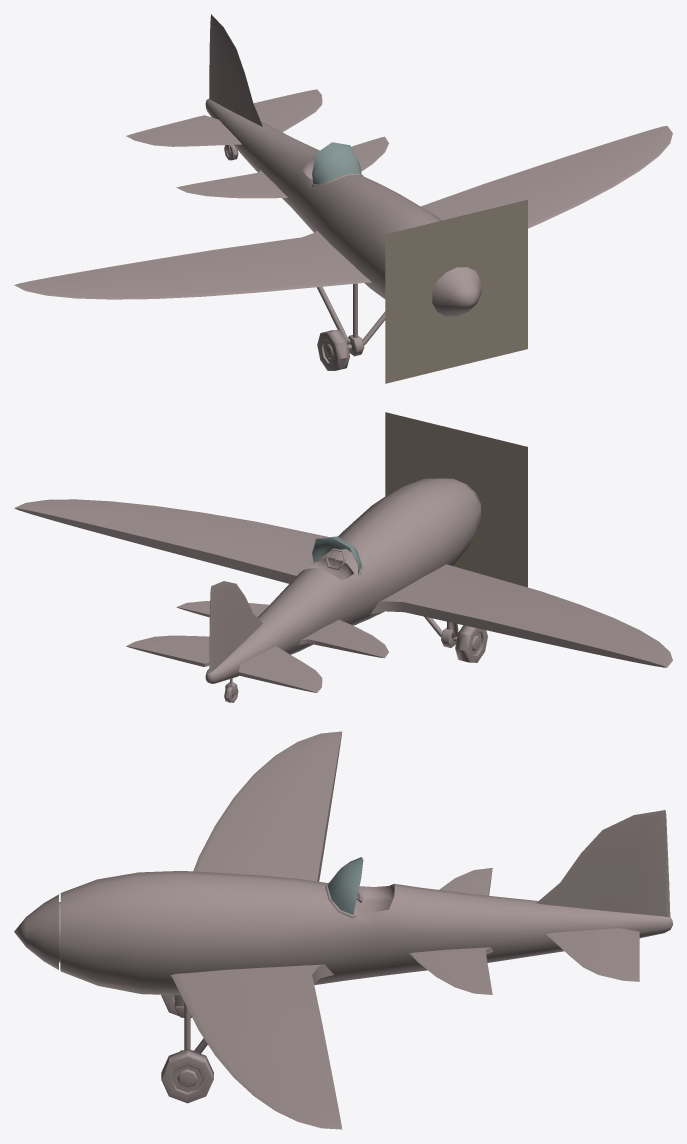
The model's file is a3d_plane_alpha-propeller_01.fbx.
3 renders of one model, top to bottom at view 1: azimuth 30°, elevation 25°; view 2: azimuth 150°, elevation 25°; view 3: azimuth 270°, elevation 25°, orthographic. The views are drawn at different scales.
Parts seen in each view (by area): view 1: Wing_Big, Propeller_Alpha, Body, Tail_Sides, Tail_Up, Wing_Small, Propeller_Holder, Visor, Wheels_Base, Wheels_Holder; view 2: Wing_Big, Body, Propeller_Alpha, Tail_Sides, Tail_Up, Wing_Small, Wheels_Base, Visor, Wheels_Holder; view 3: Body, Wing_Big, Tail_Up, Wing_Small, Tail_Sides, Wheels_Base, Propeller_Holder, Visor, Wheels_Holder.
Boxes of the visible parts, x1,y1,x2,y2 form: Wing_Big: (14, 126, 672, 299); Propeller_Alpha: (385, 199, 527, 383); Body: (205, 99, 441, 298); Tail_Sides: (126, 89, 322, 146); Tail_Up: (209, 14, 262, 126); Wing_Small: (176, 136, 388, 198); Propeller_Holder: (432, 267, 481, 316); Visor: (312, 142, 361, 184); Wheels_Base: (224, 145, 349, 370); Wheels_Holder: (225, 145, 385, 356); Wing_Big: (14, 499, 672, 667); Body: (205, 478, 481, 683); Propeller_Alpha: (385, 412, 527, 587); Tail_Sides: (126, 635, 322, 692); Tail_Up: (209, 581, 262, 672); Wing_Small: (176, 601, 388, 658); Wheels_Base: (224, 625, 487, 702); Visor: (312, 536, 361, 573); Wheels_Holder: (225, 616, 458, 695); Body: (60, 871, 672, 995); Wing_Big: (170, 731, 342, 1129); Tail_Up: (536, 810, 670, 916); Wing_Small: (409, 868, 493, 994); Tail_Sides: (546, 928, 639, 981); Wheels_Base: (161, 994, 213, 1103); Propeller_Holder: (14, 894, 60, 969); Visor: (327, 857, 363, 914); Wheels_Holder: (174, 995, 207, 1053).
Bounding box in the file's own units: 9.96 × 2.89 × 6.96.
